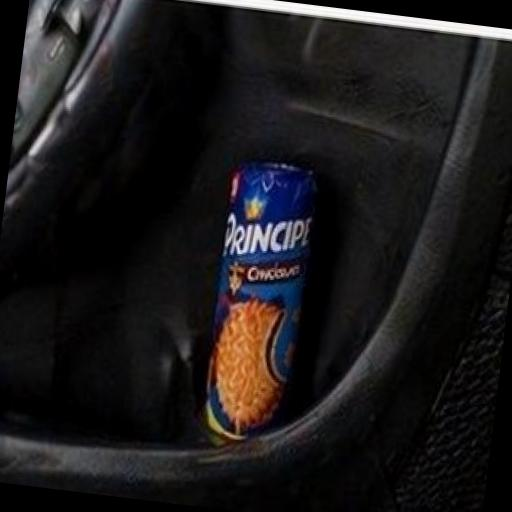prince: (130, 114, 420, 512)
